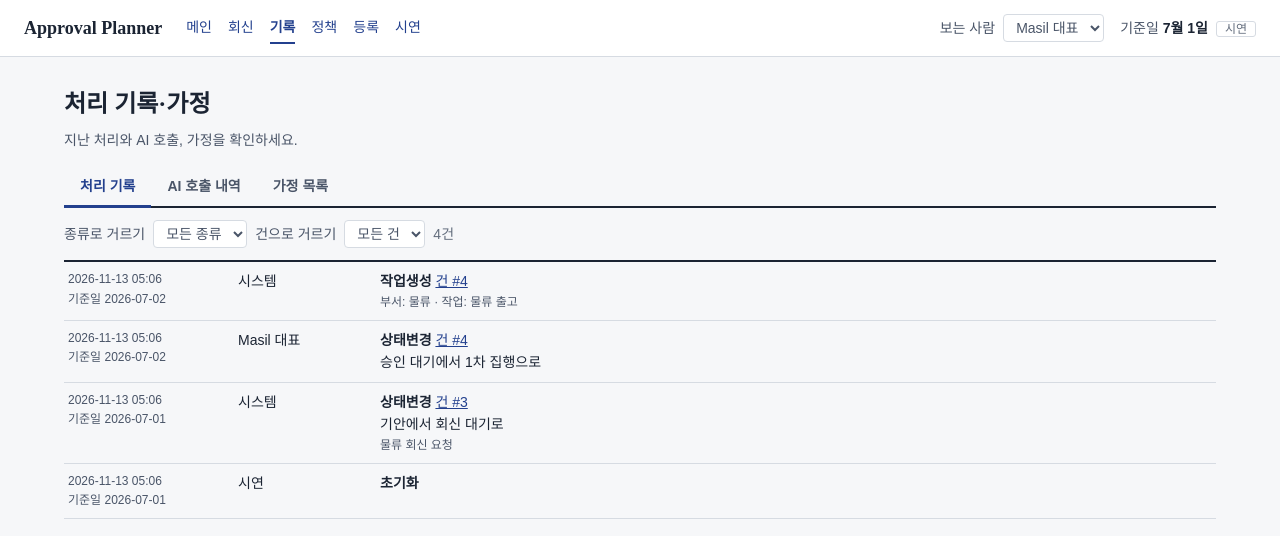
Test case: 처리 기록·가정 목록 › 처리_기록_거르기
Check: the number of list items is 4, box [64,262,1216,321]; [64,321,1216,383]; [64,383,1216,464]; [64,464,1216,519]
Check: the 3rd list item shows "기안에서 회신 대기로", box [380,416,504,432]
Select "상태변경" in the dropdown labelled "종류로 거르기" at (200, 234), box [153,220,247,248]
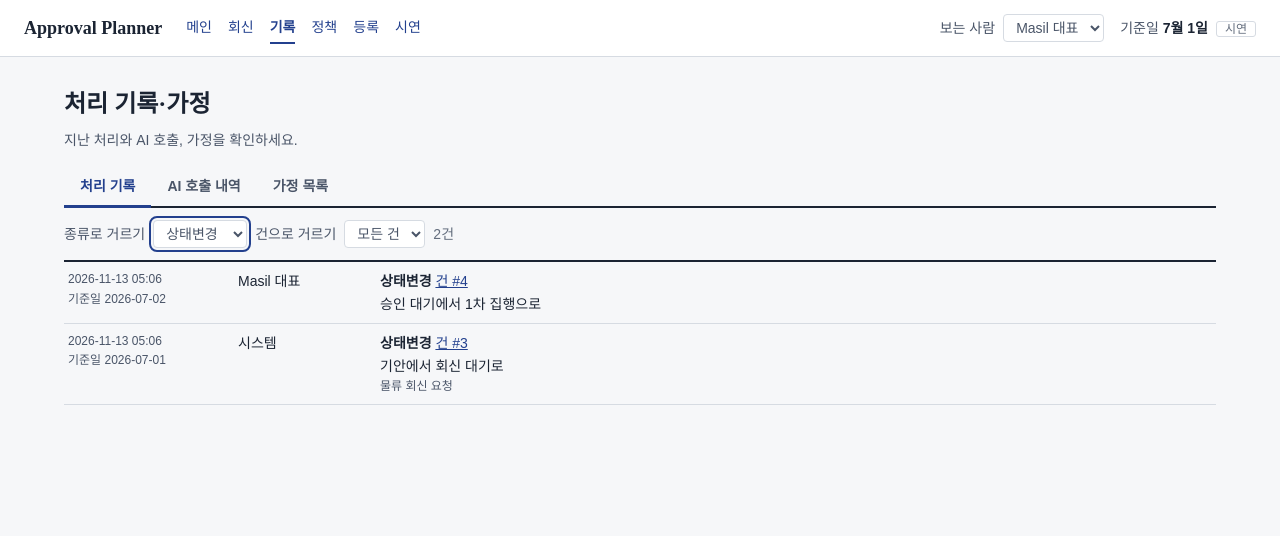
Check: the number of list items is 2, box [64,262,1216,324]; [64,324,1216,405]
Select "건 #4" in the dropdown labelled "건으로 거르기" at (385, 234), box [344,220,425,248]
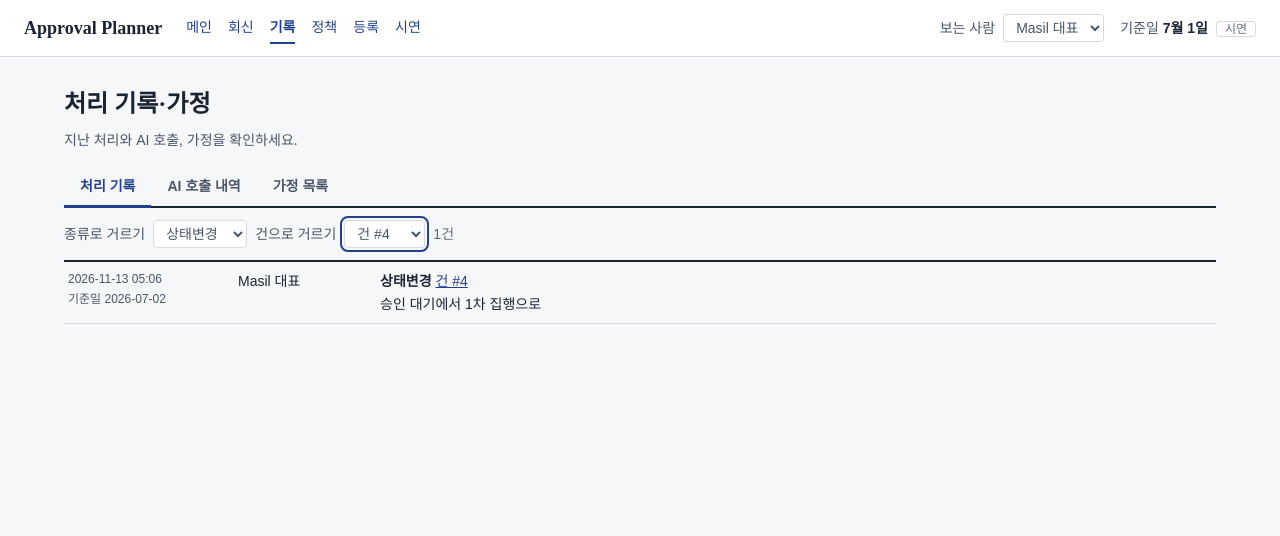
Check: the list item shows "승인 대기에서 1차 집행으로", box [380,296,541,312]
Check: the number of list items is 1, box [64,262,1216,324]
Select "모든 종류" in the dropdown labelled "종류로 거르기" at (200, 234), box [153,220,247,248]
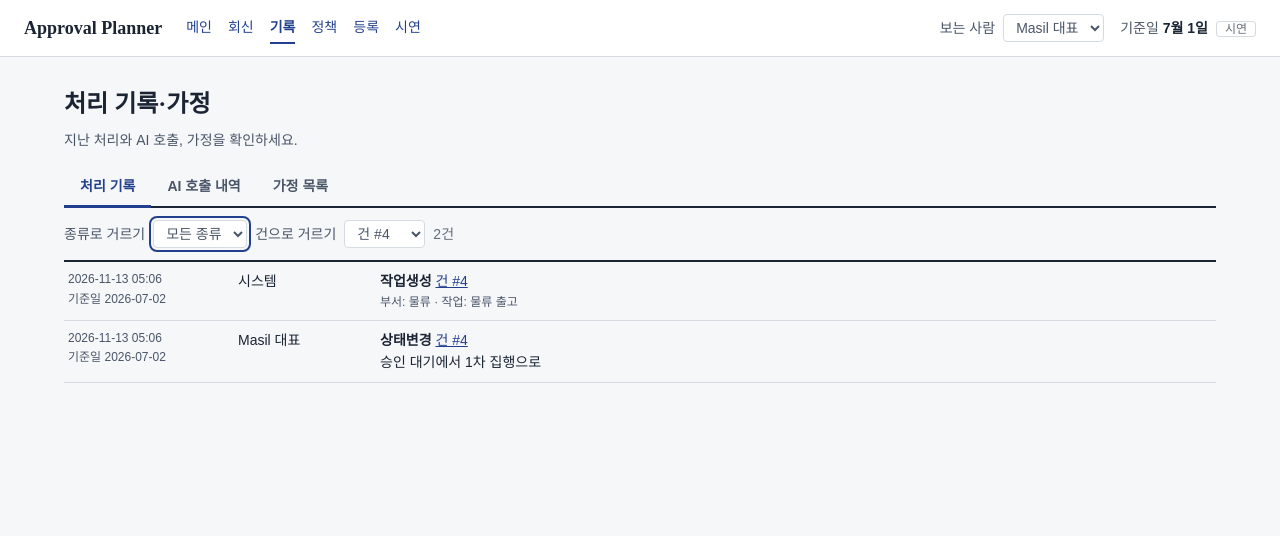
Select "모든 건" in the dropdown labelled "건으로 거르기" at (385, 234), box [344,220,425,248]
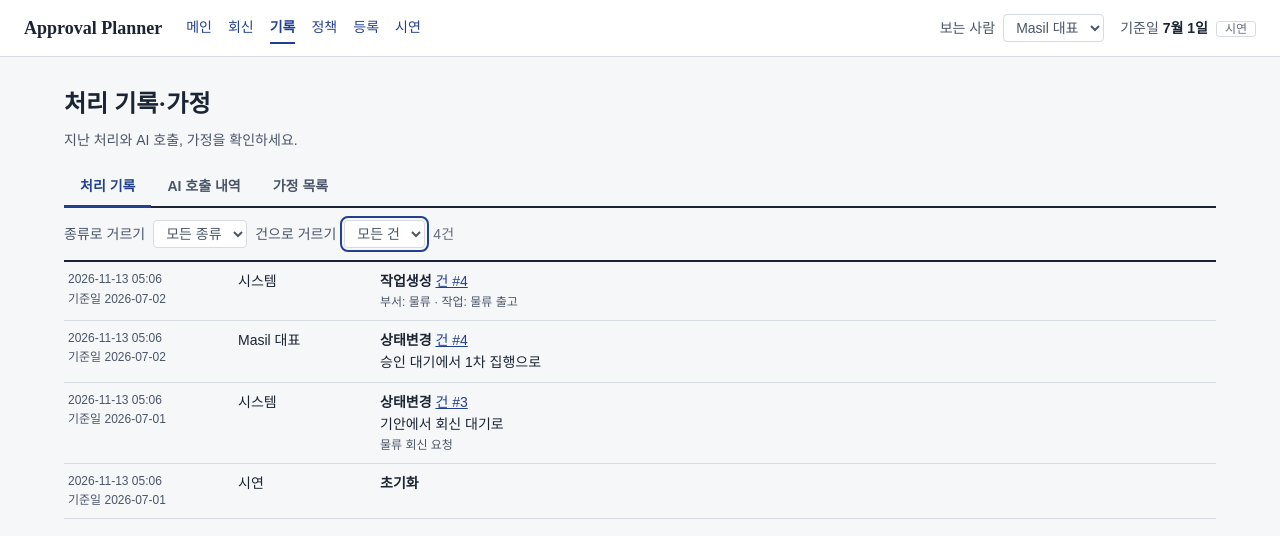
Check: the number of list items is 4, box [64,262,1216,321]; [64,321,1216,383]; [64,383,1216,464]; [64,464,1216,519]
